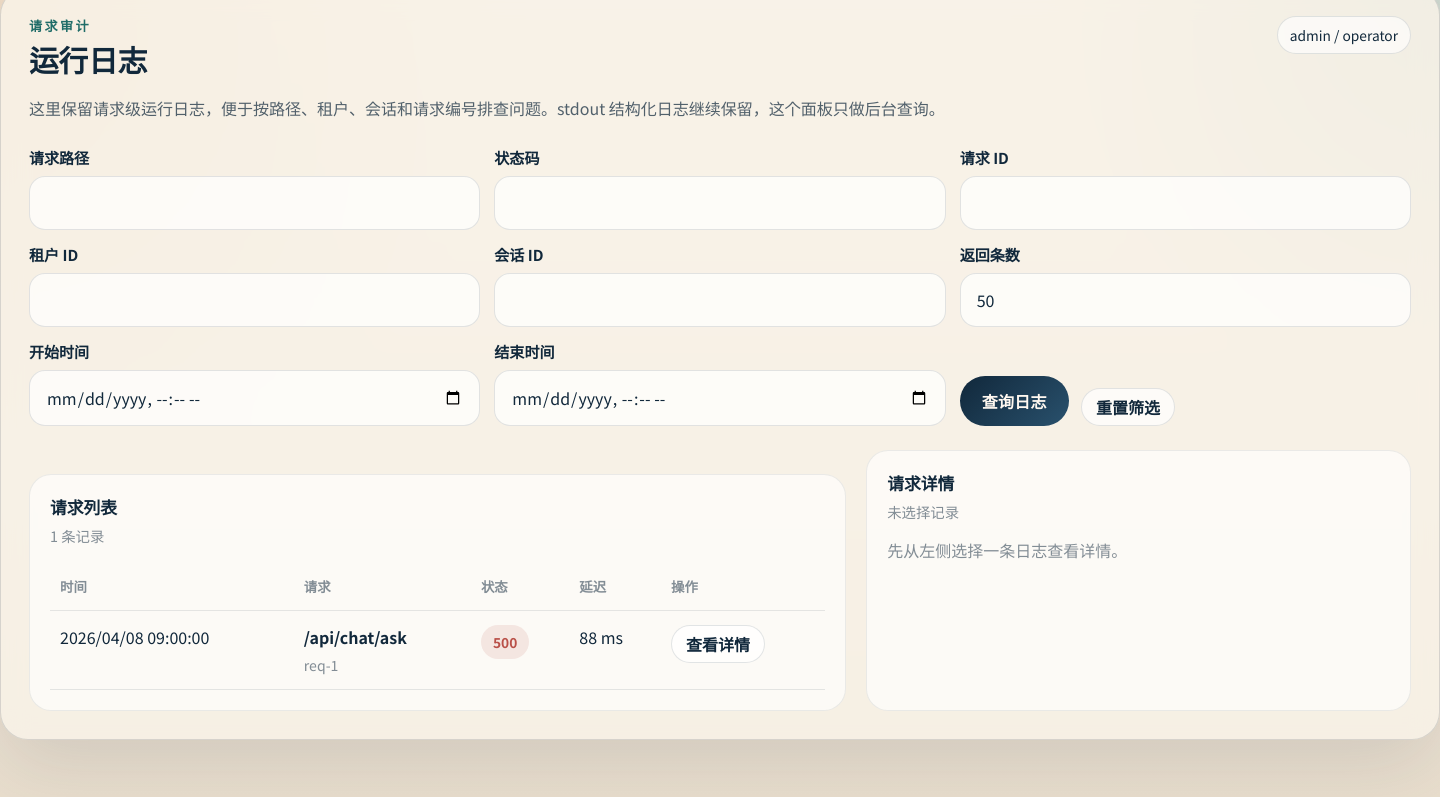
Test: filters runtime logs and opens detail view
The image size is (1440, 797).
Expected: the heading "运行日志" is shown, [29,47,147,78]
Expected: the text "/api/chat/ask" is shown, [304,625,407,649]
In the field labelled "请求路径": (255, 203) [29,176,480,230], type "/api/chat/ask"
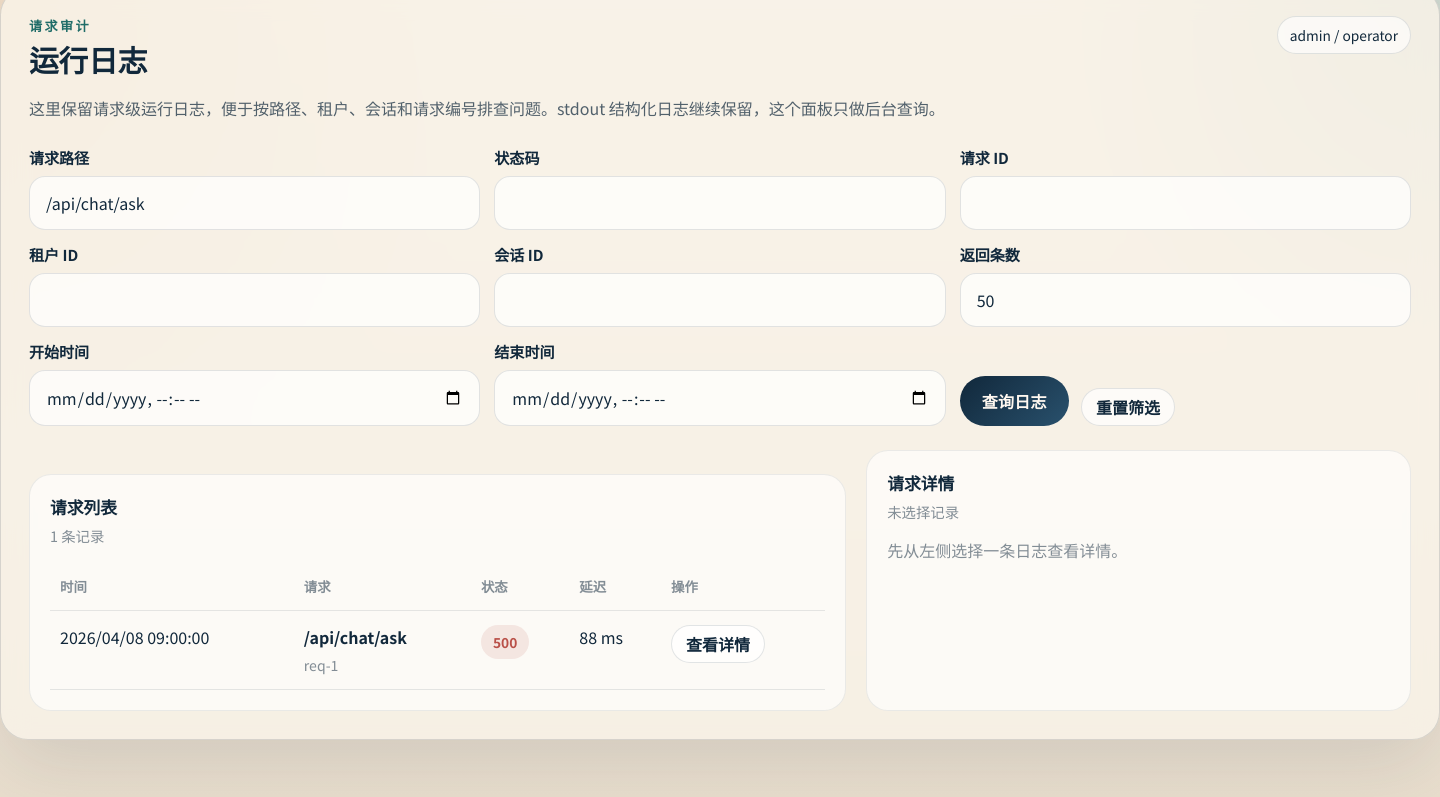
In the field labelled "开始时间": (255, 398) [29,370,480,426], type "2026-04-08T00:00"
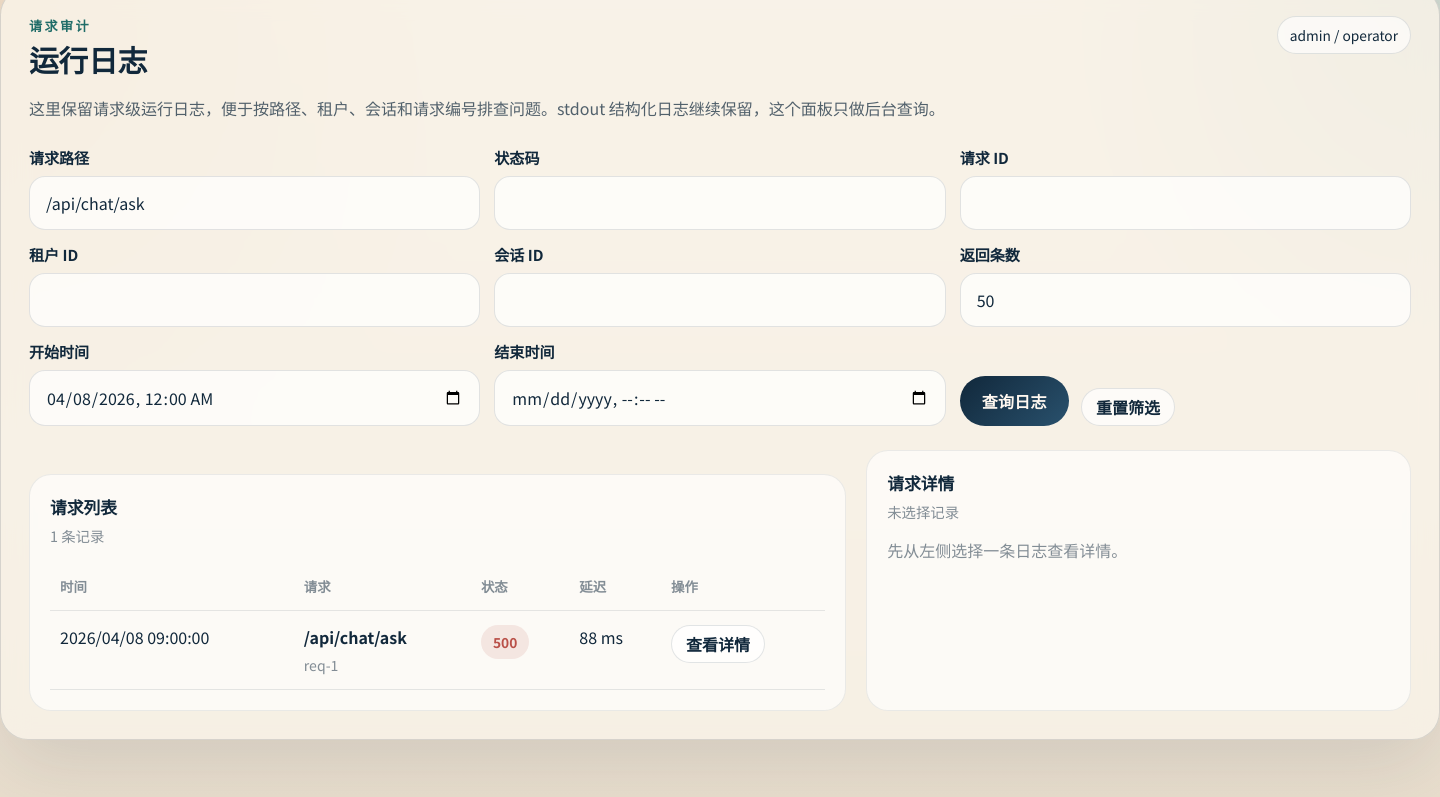
Click the button "查询日志": (1014, 401) [960,376,1069,426]
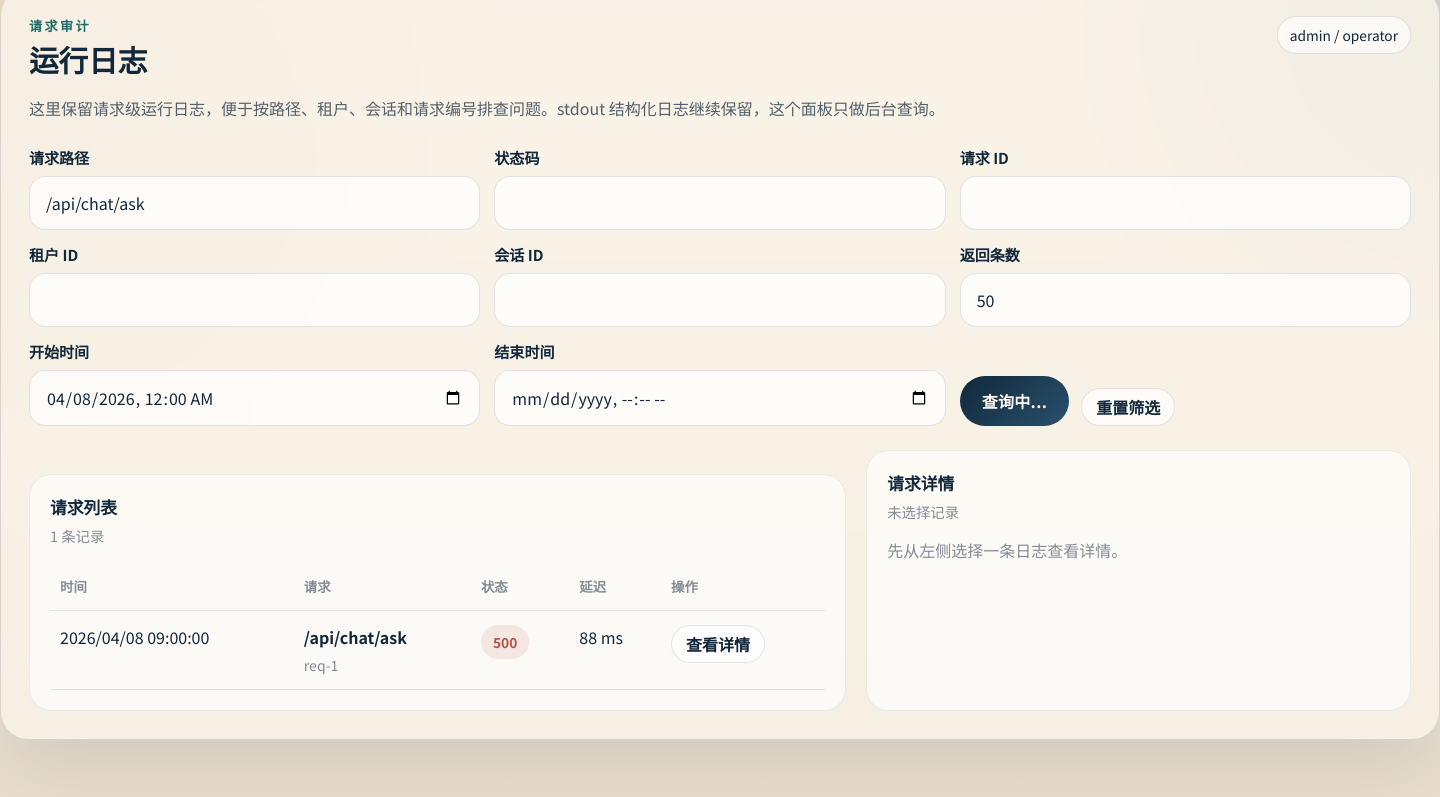
Click the button "查看详情": (718, 644) [671,625,765,663]
(page scrolled)
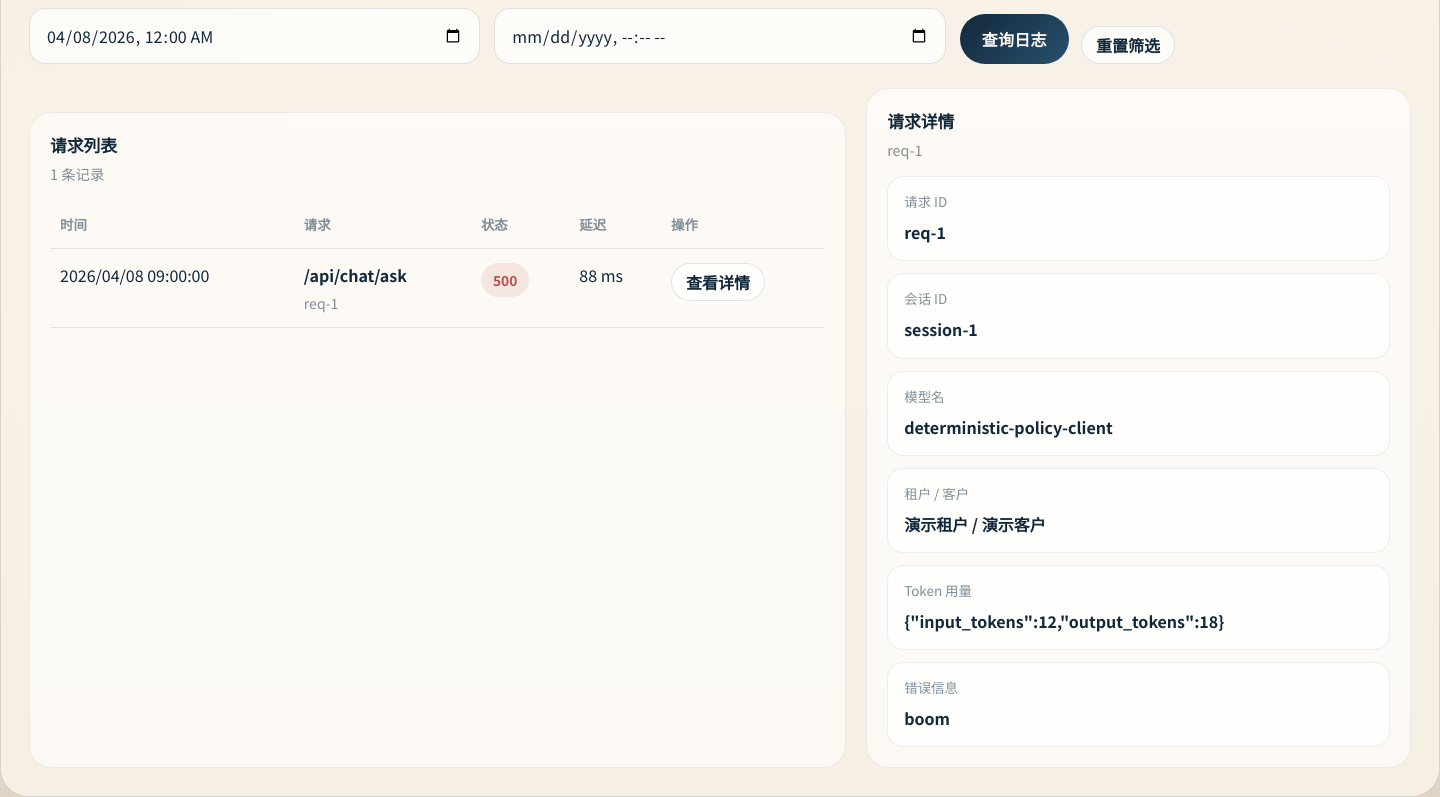
Expected: the heading "请求详情" is shown, [887,109,954,133]
Expected: the text "boom" is shown, [904,706,950,730]
